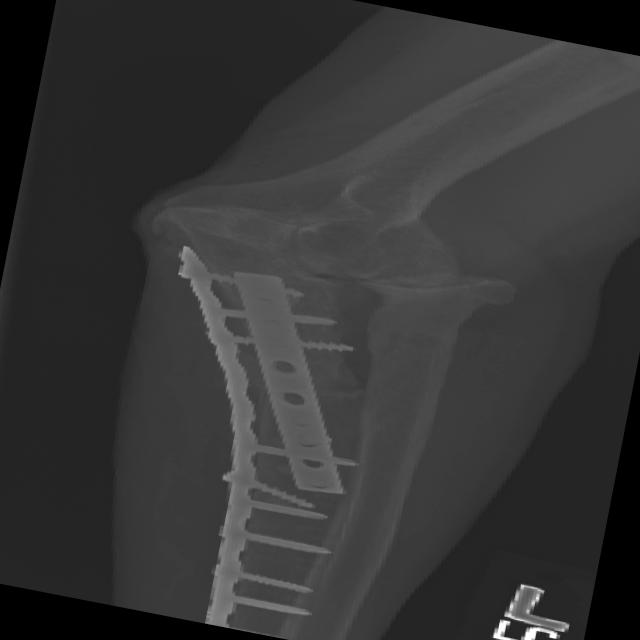elbow positive: (261, 350, 425, 423)
